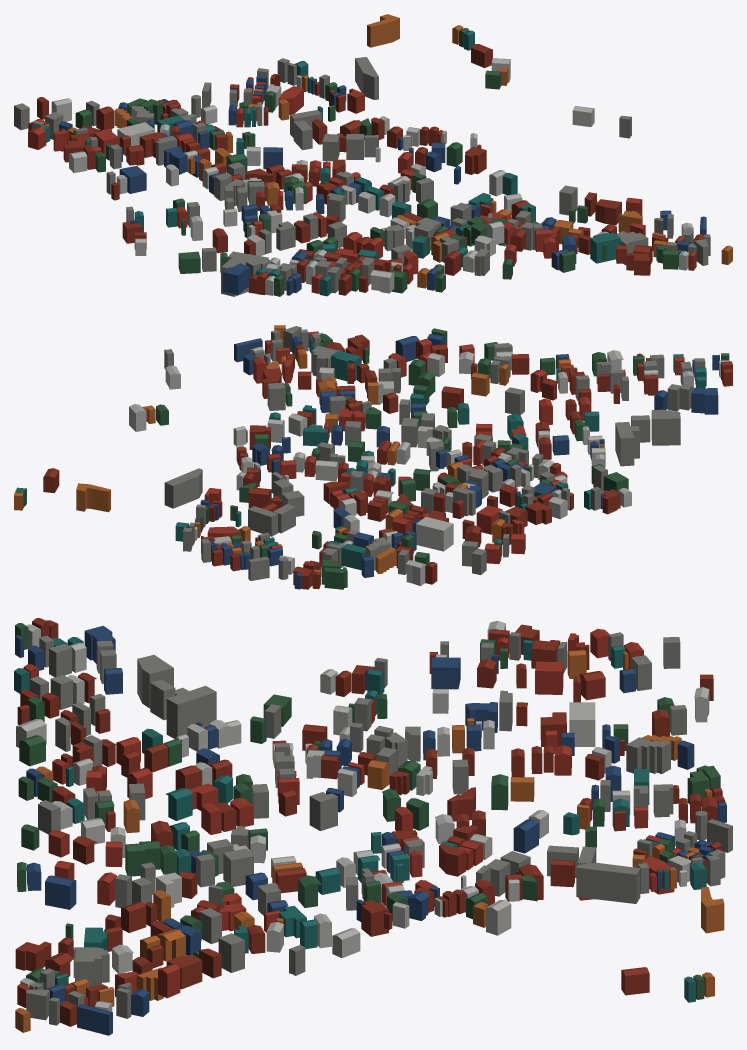
File: near-16-54722-29743.5e6745a7.glb
3 views of the same model, one above another, from view 1: azimuth 30°, elevation 25°; view 2: azimuth 150°, elevation 25°; view 3: azimuth 270°, elevation 25° (orthographic). The views are drawn at different scales.
Size of the model in its own units: 598 by 113 by 596.
